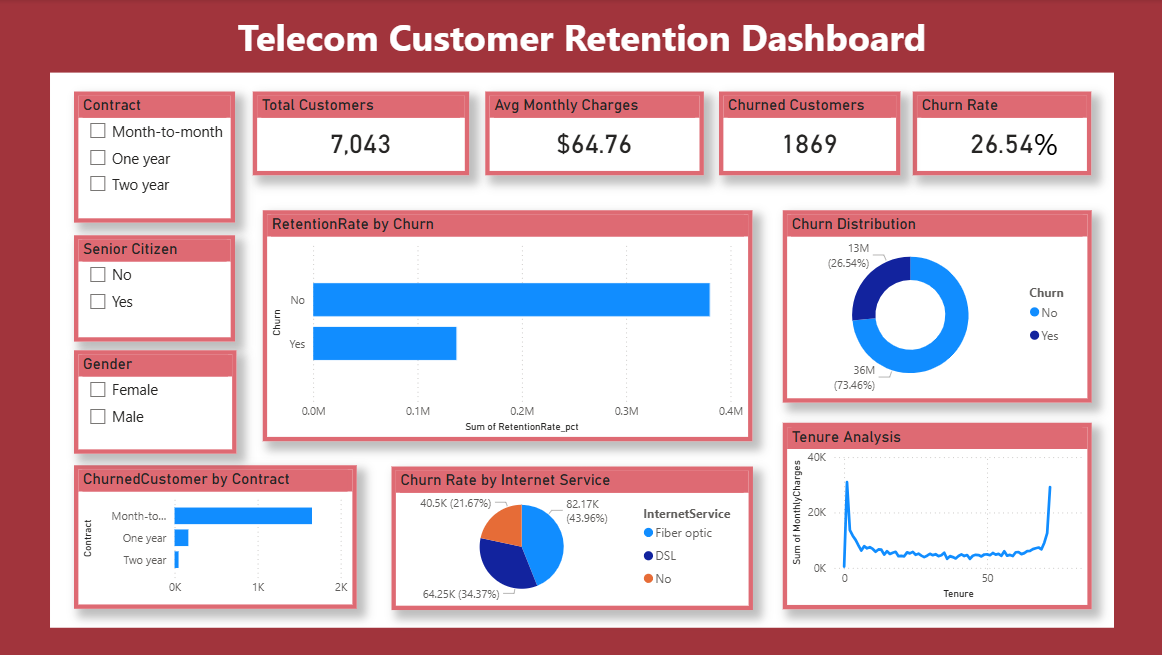

Layout of this report page (visuals, bound fields, positions):
{"tool":"powerbi","page":{"name":"Page 1","canvas":[1280,720],"ordinal":0},"visuals":[{"type":"card","title":"Total Customers","fields":{"Values":["Count(telco_churn_cleaned (1).CustomerID)"]},"box":[278.6,101.5,237.4,91.9],"z":0},{"type":"shape","box":[0,0,56.3,720.4],"z":1000},{"type":"shape","title":"elecom Customer Retention Dashboard ","box":[0,0,1280.3,81],"z":2000},{"type":"shape","box":[0,690.2,1280.3,30.2],"z":3000},{"type":"shape","box":[1224,0,56.3,720.4],"z":4000},{"type":"card","title":"Churn Rate","fields":{"Values":["Avg(telco_churn_cleaned (1).ChurnRate_pct)"]},"box":[1003.1,101.5,196.2,91.9],"z":5000},{"type":"shape","box":[1134.8,133,28.8,49.4],"z":6000},{"type":"card","title":"Avg Monthly Charges","fields":{"Values":["Avg(telco_churn_cleaned (1).MonthlyCharges)"]},"box":[533.8,101.5,240.1,91.9],"z":7000},{"type":"card","title":"Churned Customers","fields":{"Values":["Sum(telco_churn_cleaned (1).ChurnedCustomer)"]},"box":[790.4,101.5,199,91.9],"z":8000},{"type":"donutChart","title":"Churn Distribution","fields":{"Category":["telco_churn_cleaned (1).Churn"],"Y":["Sum(telco_churn_cleaned (1).TotalCustomers)"]},"box":[860.4,231.9,338.9,211.3],"z":9000},{"type":"clusteredBarChart","title":" ChurnedCustomer by Contract","fields":{"Category":["telco_churn_cleaned (1).Contract"],"Y":["Sum(telco_churn_cleaned (1).ChurnedCustomer)"]},"box":[82.3,511.8,310.1,157.8],"z":10000},{"type":"pieChart","title":"Churn Rate by Internet Service","fields":{"Category":["telco_churn_cleaned (1).InternetService"],"Y":["Sum(telco_churn_cleaned (1).ChurnRate_pct)"]},"box":[430.9,513.2,396.6,157.8],"z":11000},{"type":"lineChart","title":"Tenure Analysis","fields":{"Category":["telco_churn_cleaned (1).Tenure"],"Y":["Sum(telco_churn_cleaned (1).MonthlyCharges)"]},"box":[860.4,465.2,338.9,204.5],"z":12000},{"type":"slicer","title":"Contract","fields":{"Values":["telco_churn_cleaned (1).Contract"]},"box":[82.3,101.5,177,144.1],"z":13000},{"type":"slicer","title":"Senior Citizen","fields":{"Values":["telco_churn_cleaned (1).SeniorCitizen"]},"box":[82.3,259.3,177,116.6],"z":14000},{"type":"slicer","title":"Gender","fields":{"Values":["telco_churn_cleaned (1).Gender"]},"box":[82.3,385.6,178.4,113.9],"z":15000},{"type":"clusteredBarChart","title":" RetentionRate by Churn","fields":{"Category":["telco_churn_cleaned (1).Churn"],"Y":["Sum(telco_churn_cleaned (1).RetentionRate_pct)"]},"box":[289.5,231.9,537.9,253.9],"z":16000}]}

Visuals, with their boxes in screenshot pixels (x1, y1, x2, y2), scaled from the page's 1280x720 canvas onto the 1162x655 screenshot:
"Total Customers" card: box(253, 92, 468, 176)
shape: box(0, 0, 51, 654)
"elecom Customer Retention Dashboard " shape: box(0, 0, 1161, 74)
shape: box(0, 628, 1161, 654)
shape: box(1111, 0, 1161, 654)
"Churn Rate" card: box(911, 92, 1089, 176)
shape: box(1030, 121, 1056, 166)
"Avg Monthly Charges" card: box(485, 92, 703, 176)
"Churned Customers" card: box(718, 92, 898, 176)
"Churn Distribution" donutChart: box(781, 211, 1089, 403)
" ChurnedCustomer by Contract" clusteredBarChart: box(75, 466, 356, 609)
"Churn Rate by Internet Service" pieChart: box(391, 467, 751, 610)
"Tenure Analysis" lineChart: box(781, 423, 1089, 609)
"Contract" slicer: box(75, 92, 235, 223)
"Senior Citizen" slicer: box(75, 236, 235, 342)
"Gender" slicer: box(75, 351, 237, 454)
" RetentionRate by Churn" clusteredBarChart: box(263, 211, 751, 442)
